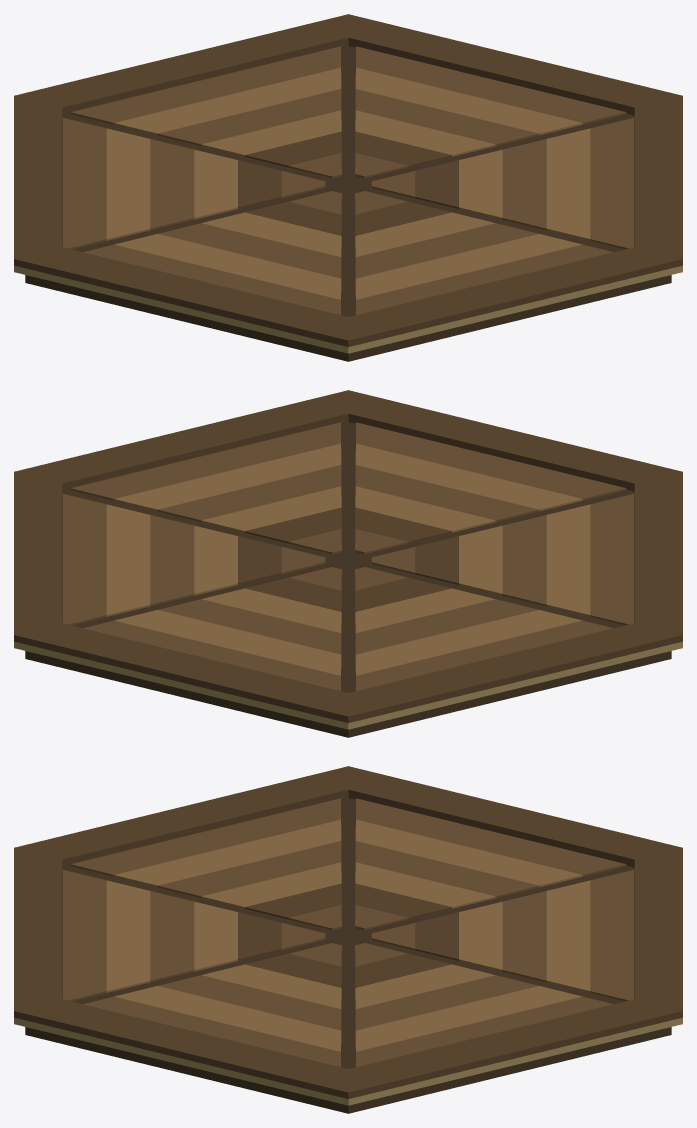
Rendered from platformOnly.glb.
3 renders of one model, top to bottom at view 1: azimuth 30°, elevation 25°; view 2: azimuth 150°, elevation 25°; view 3: azimuth 270°, elevation 25°, orthographic.
Parts seen in each view (by area): view 1: platformOnly; view 2: platformOnly; view 3: platformOnly.
Part boxes in pixels (x1,y1,x2,y2): platformOnly: [14, 14, 682, 361]; platformOnly: [14, 390, 682, 737]; platformOnly: [14, 766, 682, 1113].
Size of what is drawn, in the model's own units: 8 by 0.3059 by 6.93.
1 material, 1 textured.
